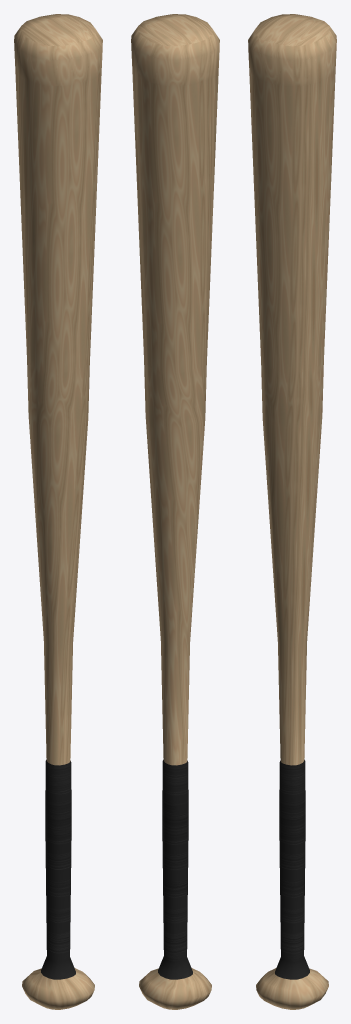
File: 야구배트_나무재질.fbx
3 renders of one model, left to right at view 1: azimuth 30°, elevation 25°; view 2: azimuth 210°, elevation 25°; view 3: azimuth 330°, elevation 25°, orthographic.
Parts seen in each view (by area): view 1: Bat; view 2: Bat; view 3: Bat.
Boxes of the visible parts, bbox=[...] form: Bat: bbox=[14, 14, 102, 1009]; Bat: bbox=[131, 14, 219, 1009]; Bat: bbox=[248, 14, 336, 1009].
Bounding box in the file's own units: 5.67 × 69.56 × 5.67.
